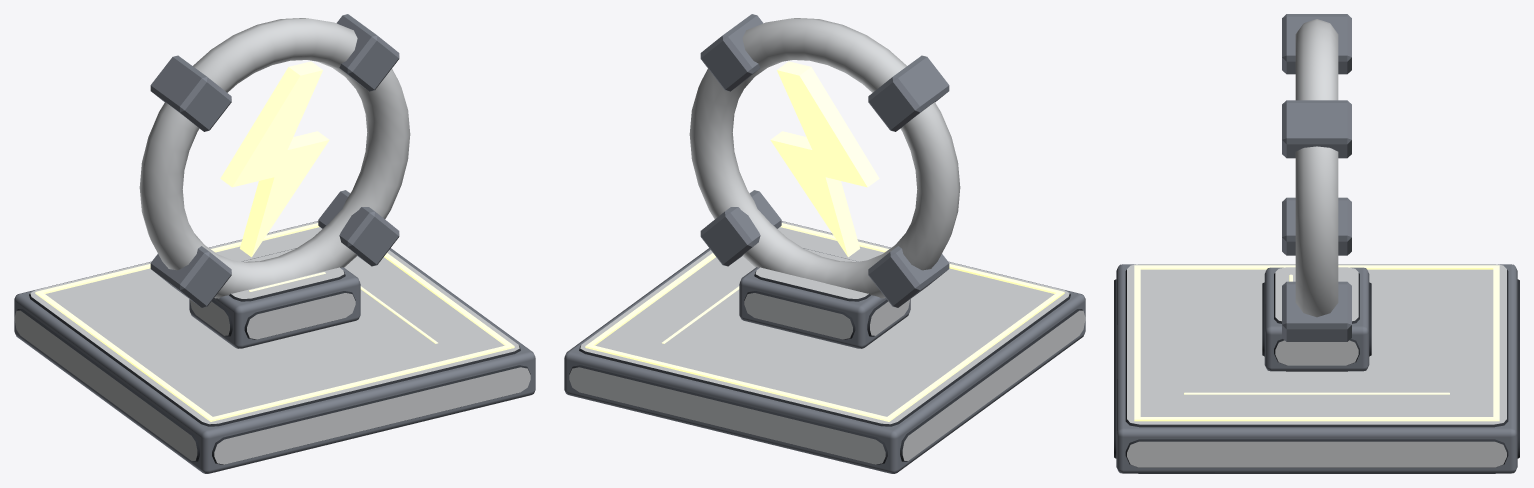
File: R4X_RechargePulse.fbx
The picture shows the model from 3 angles, left to right: view 1: azimuth 30°, elevation 25°; view 2: azimuth 150°, elevation 25°; view 3: azimuth 270°, elevation 25°; orthographic projection. The views are drawn at different scales.
Parts seen in each view (by area): view 1: R4X_RechargePulse_Body; view 2: R4X_RechargePulse_Body; view 3: R4X_RechargePulse_Body.
Part boxes in pixels (x1,y1,x2,y2): R4X_RechargePulse_Body: (14,14,535,473); R4X_RechargePulse_Body: (564,14,1085,473); R4X_RechargePulse_Body: (1114,14,1519,473).
Bounding box in the file's own units: 0.52 × 0.5081 × 0.52.
